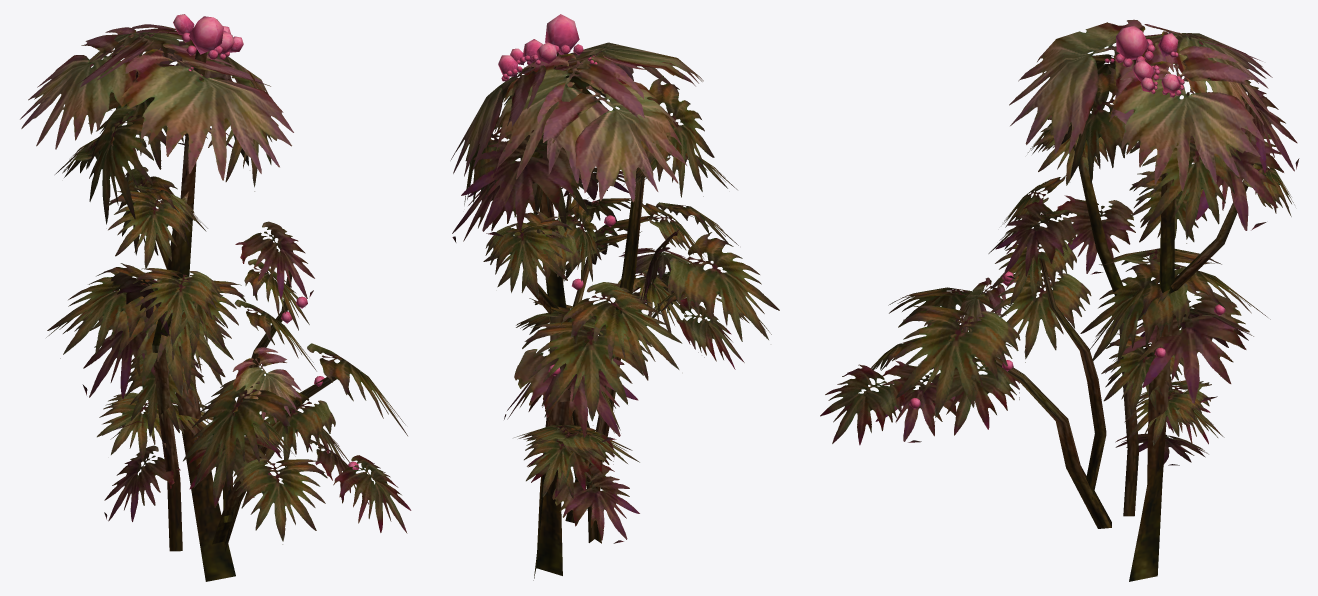
File: S_Plant_Yellow016_A1.FBX
The picture shows the model from 3 angles, left to right: view 1: azimuth 30°, elevation 25°; view 2: azimuth 150°, elevation 25°; view 3: azimuth 270°, elevation 25°; orthographic projection. The views are drawn at different scales.
Visible parts, largest first — view 1: S_Plant_Yellow016_A1; view 2: S_Plant_Yellow016_A1; view 3: S_Plant_Yellow016_A1.
Boxes of the visible parts, x1=… form: S_Plant_Yellow016_A1: x1=20, y1=14, x2=411, y2=581; S_Plant_Yellow016_A1: x1=450, y1=14, x2=779, y2=580; S_Plant_Yellow016_A1: x1=820, y1=19, x2=1299, y2=581.
Size of the model in its own units: 265 by 565 by 461.
